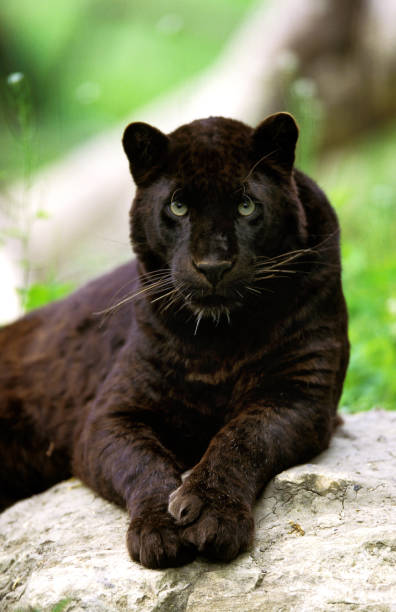panther: (101, 107, 327, 339)
